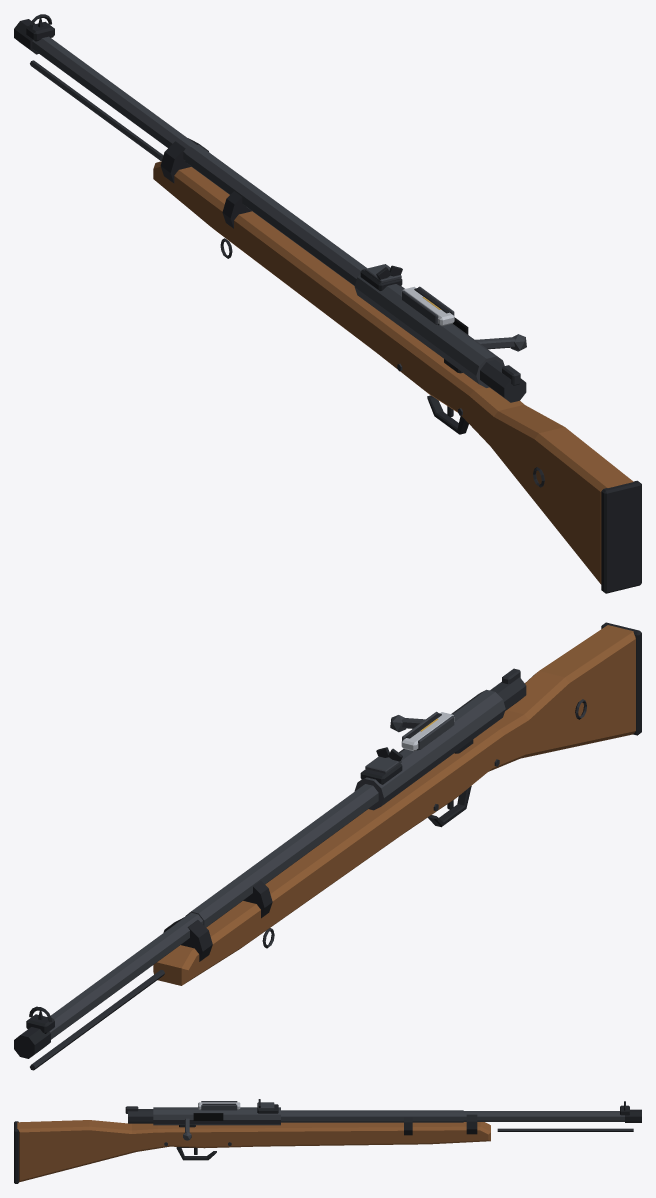
Rendered from kar98k.glb.
The picture shows the model from 3 angles, top to bottom: view 1: azimuth 30°, elevation 25°; view 2: azimuth 150°, elevation 25°; view 3: azimuth 270°, elevation 25°; orthographic projection. The views are drawn at different scales.
Visible parts, largest first — view 1: kar_body, kar_irons; view 2: kar_body, kar_irons, kar_boltBody; view 3: kar_body, kar_irons, kar_boltBody.
Boxes of the visible parts, x1,y1,x2,y2 form: kar_body: (14, 19, 641, 593); kar_irons: (26, 14, 402, 290); kar_body: (14, 622, 641, 1070); kar_irons: (26, 747, 402, 1033); kar_boltBody: (401, 712, 454, 751); kar_body: (14, 1101, 641, 1183); kar_irons: (257, 1099, 629, 1115); kar_boltBody: (198, 1102, 240, 1109).
Bounding box in the file's own units: 0.1279 × 0.2066 × 1.48.
